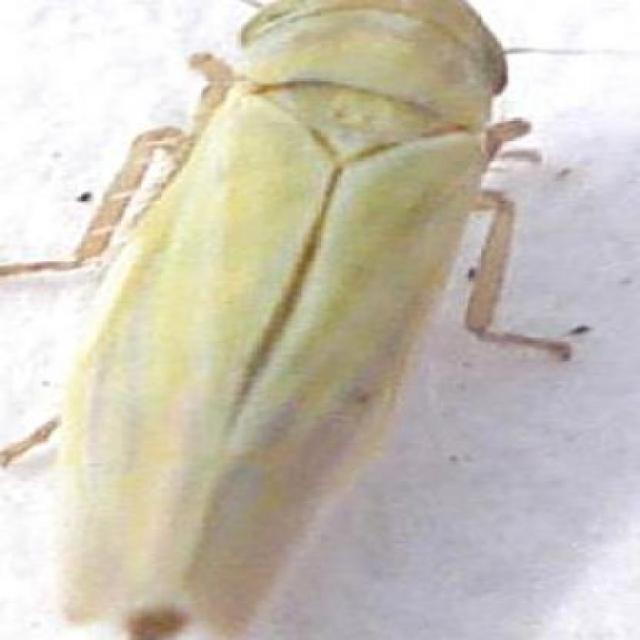green-leafhopper: (68, 2, 500, 624)
